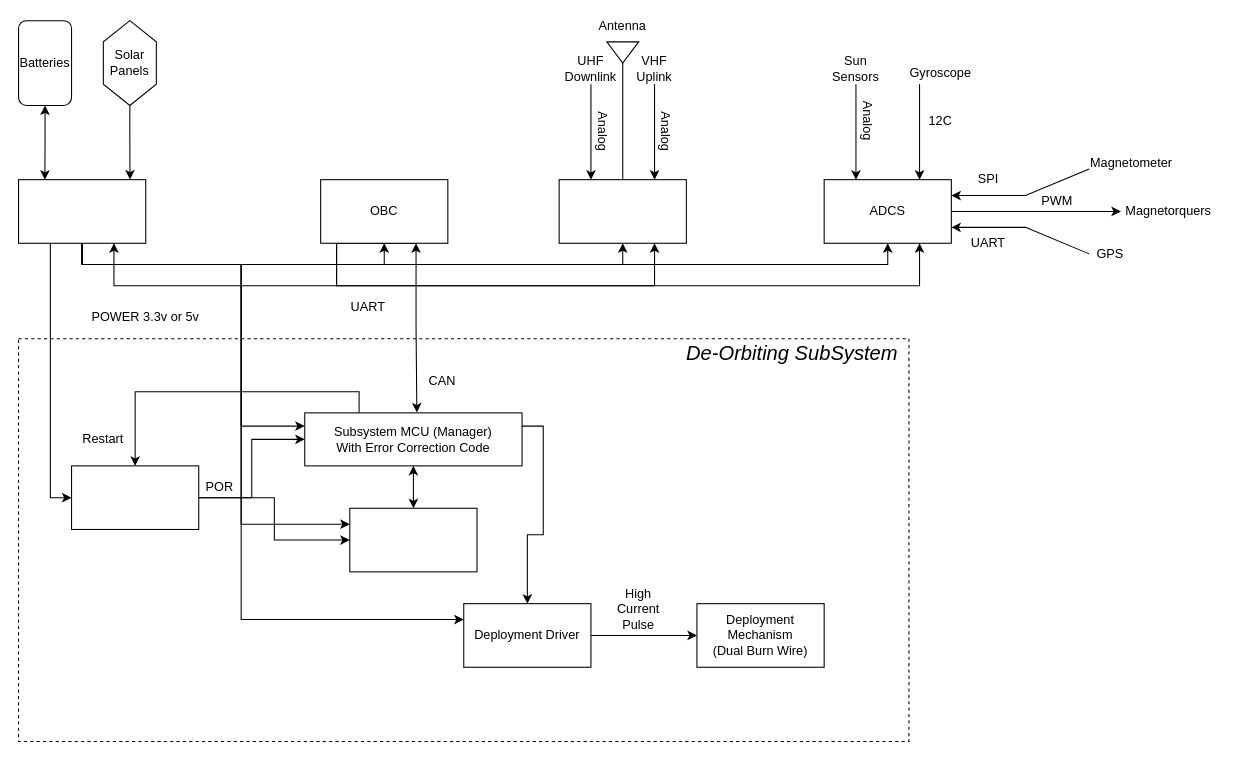
Some shapes in this 1235 by 760 pixel diagram are drawn without their labels. The centre of each missing label's shape, as x and y in pixels:
"AI Inference IC" goes at point (413, 539).
"COM" goes at point (622, 211).
"ESP" goes at point (81, 211).
"Watchdog Timer" goes at point (134, 497).
